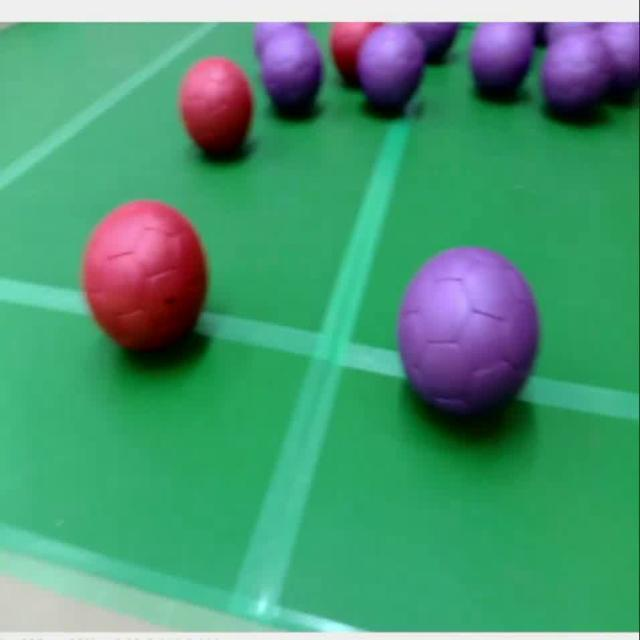purple_ball: (397, 247, 543, 426), (547, 36, 617, 123), (258, 29, 325, 116), (468, 23, 538, 106), (369, 22, 427, 113), (601, 21, 640, 105), (410, 24, 463, 63), (257, 22, 312, 58)
red_ball: (89, 202, 208, 350), (181, 55, 253, 158), (328, 25, 363, 87)
